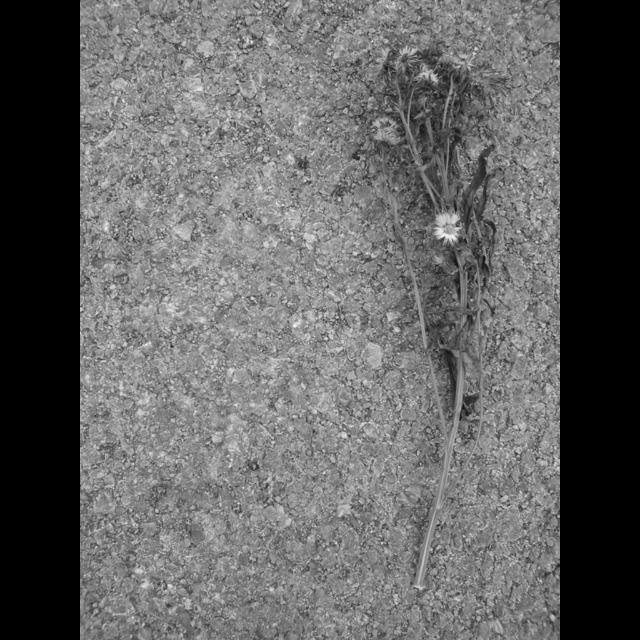Flower: (434, 213, 464, 245), (369, 117, 401, 145), (394, 42, 421, 74), (448, 50, 476, 72), (416, 66, 440, 82)
